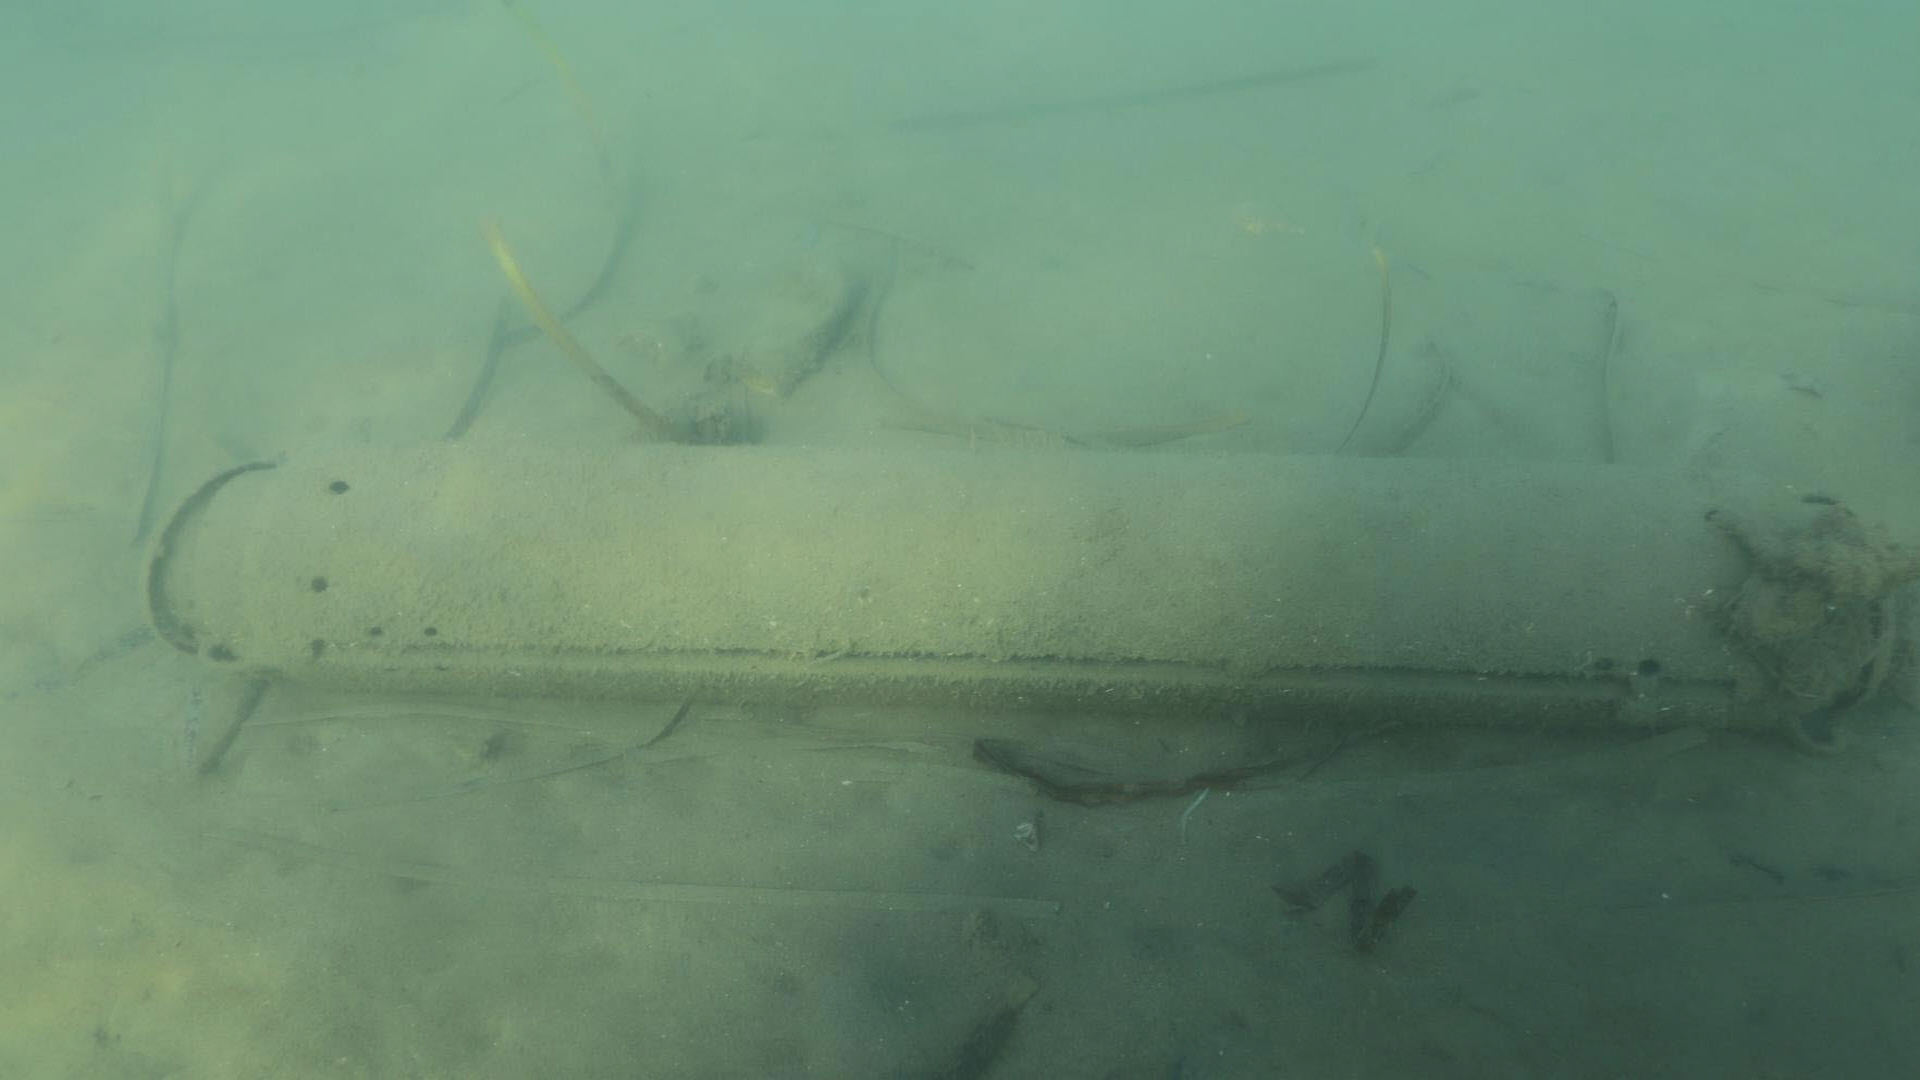bundle of ropes: (1815, 538, 1920, 615)
eel fish trap: (140, 446, 1898, 740)
